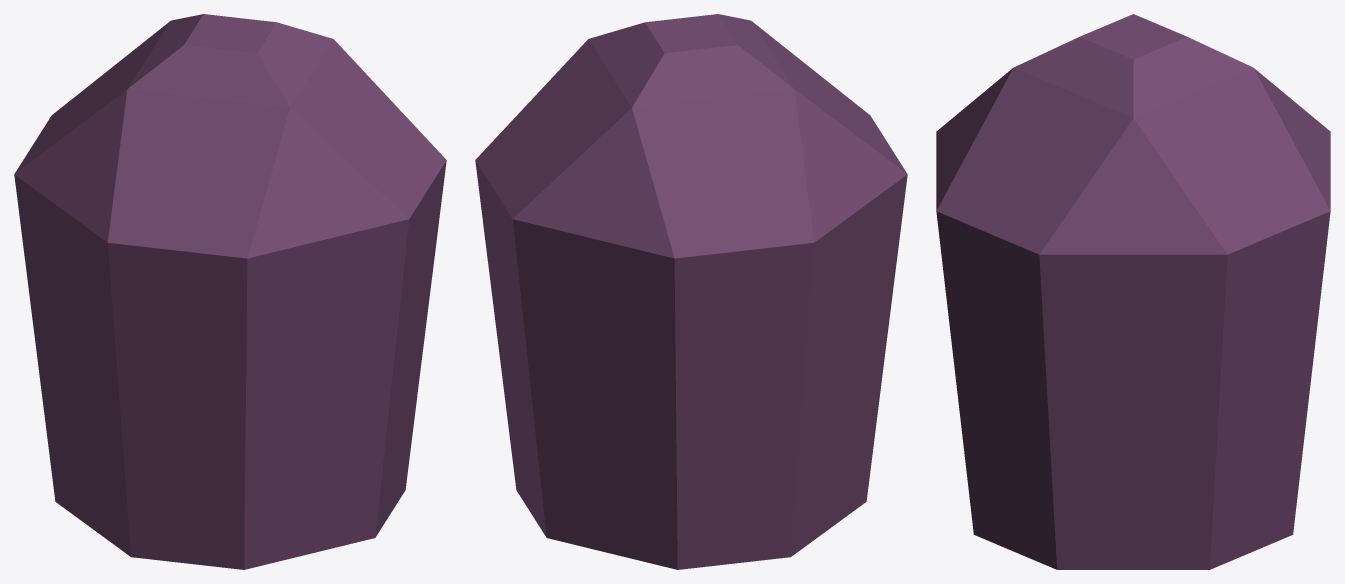
The picture shows the model from 3 angles, left to right: view 1: azimuth 30°, elevation 25°; view 2: azimuth 150°, elevation 25°; view 3: azimuth 270°, elevation 25°; orthographic projection.
Parts seen in each view (by area): view 1: cone2; view 2: cone2; view 3: cone2.
Part boxes in pixels (x1,y1,x2,y2): cone2: (14, 14, 446, 569); cone2: (475, 14, 907, 569); cone2: (936, 14, 1330, 569).
Size of the model in its own units: 200 by 261 by 200.
